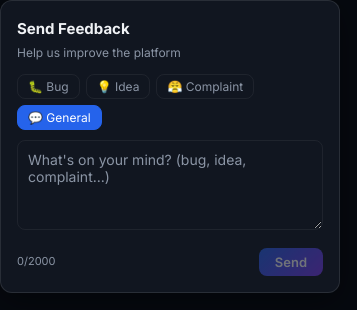
Test case: FeedbackPopover › updates character count
Type "Hello" into the text box with placeholder "What's on your mind? (bug, idea, complaint...)" at [170, 185], box [17, 140, 323, 230]
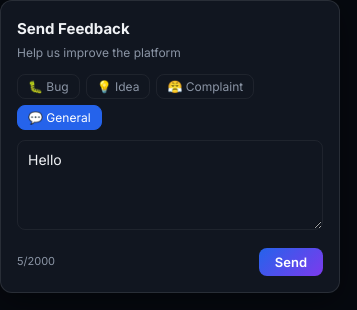
Check: the text "5/2000" is shown, box [17, 253, 55, 271]
